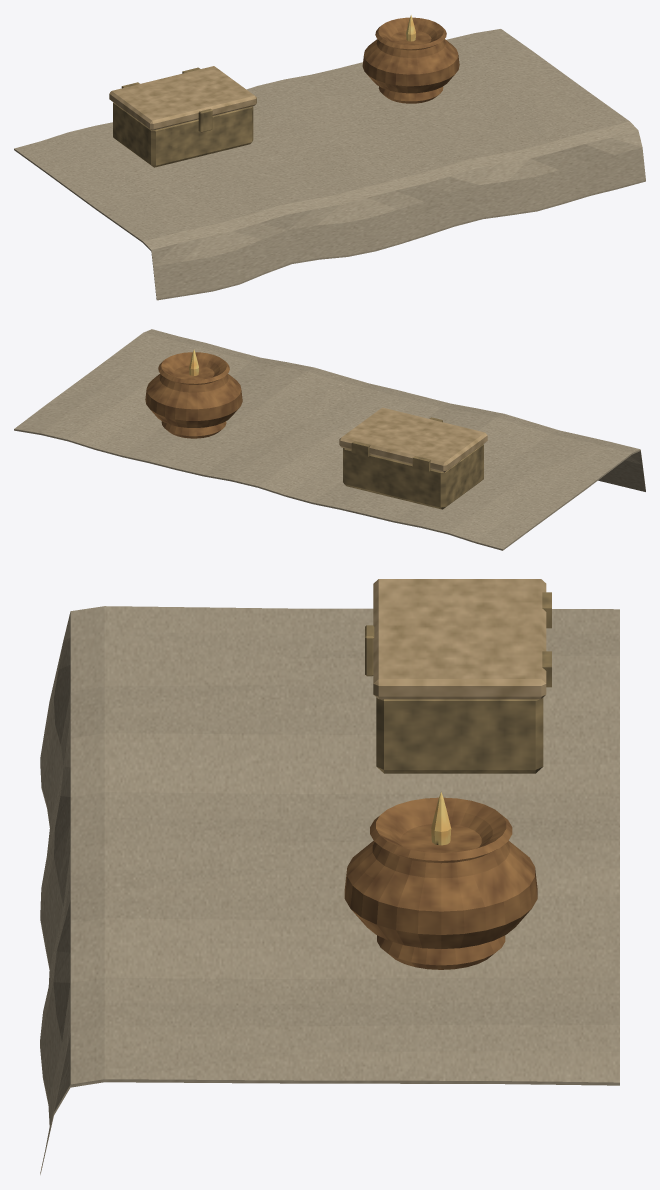
The model's file is BenchDressing_LOD0.fbx.
The picture shows the model from 3 angles, top to bottom: view 1: azimuth 30°, elevation 25°; view 2: azimuth 150°, elevation 25°; view 3: azimuth 270°, elevation 25°; orthographic projection. The views are drawn at different scales.
Visible parts, largest first — view 1: BenchDressing; view 2: BenchDressing; view 3: BenchDressing.
Boxes of the visible parts, x1,y1,x2,y2 form: BenchDressing: (14,15,645,300); BenchDressing: (14,329,645,550); BenchDressing: (40,579,619,1174).
Bounding box in the file's own units: 1.32 × 0.3393 × 0.681.
1 material, 1 textured.
